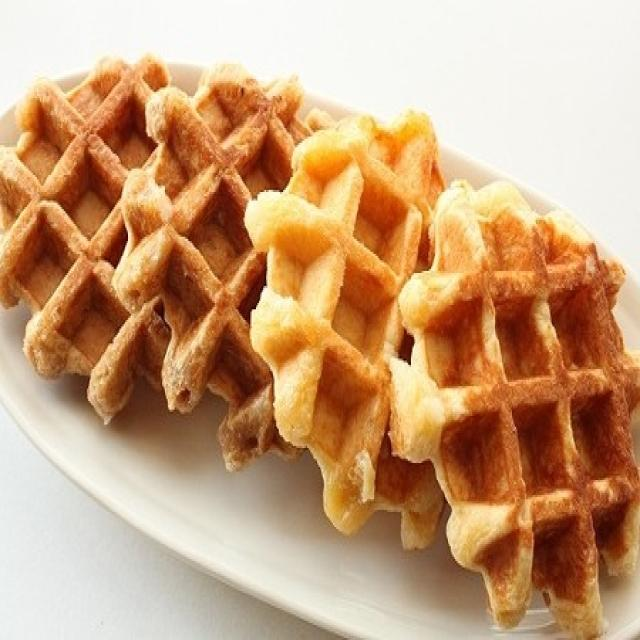炸货点心: (6, 42, 633, 618)
蛋糕甜品: (6, 42, 633, 618)
